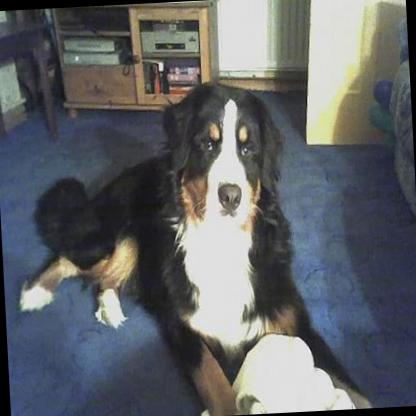Bernese_mountain_dog: (7, 72, 370, 416)
